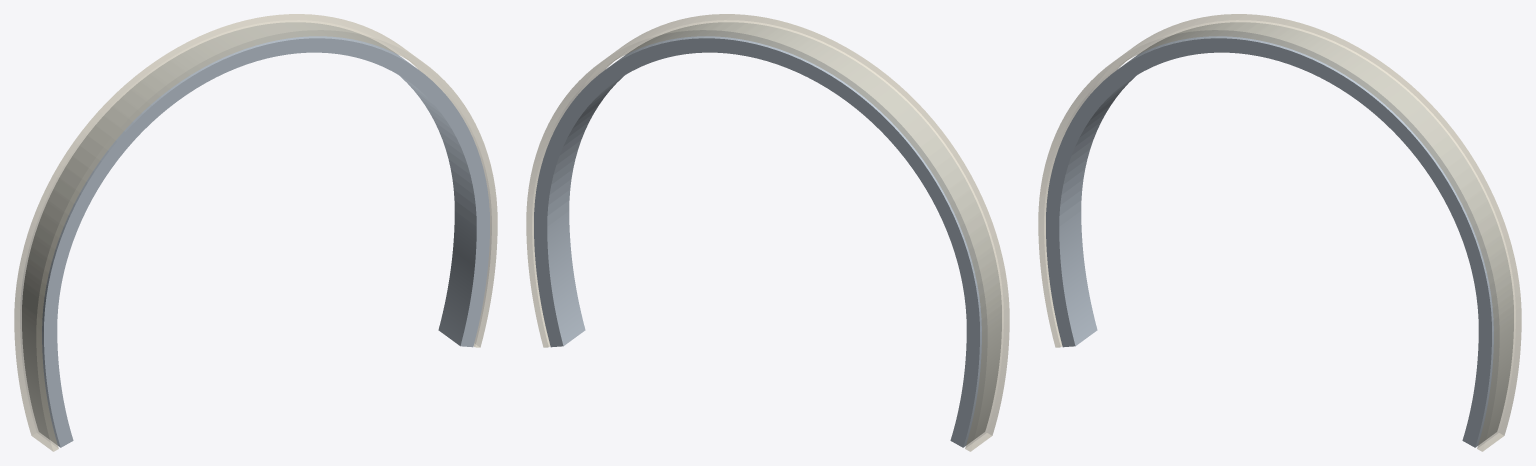
File: ZZ-IIIx_support_1m.glb
The picture shows the model from 3 angles, left to right: view 1: azimuth 30°, elevation 25°; view 2: azimuth 150°, elevation 25°; view 3: azimuth 330°, elevation 25°; orthographic projection.
Visible parts, largest first — view 1: secondaryLining, primarySupportConcrete; view 2: secondaryLining, primarySupportConcrete; view 3: secondaryLining, primarySupportConcrete.
Part boxes in pixels (bbox=[...]): secondaryLining: bbox=[22, 22, 489, 447]; primarySupportConcrete: bbox=[14, 14, 497, 451]; secondaryLining: bbox=[534, 22, 1001, 447]; primarySupportConcrete: bbox=[526, 14, 1009, 451]; secondaryLining: bbox=[1046, 22, 1513, 447]; primarySupportConcrete: bbox=[1038, 14, 1521, 451].
Bounding box in the file's own units: 12.1 × 9.1 × 1.
